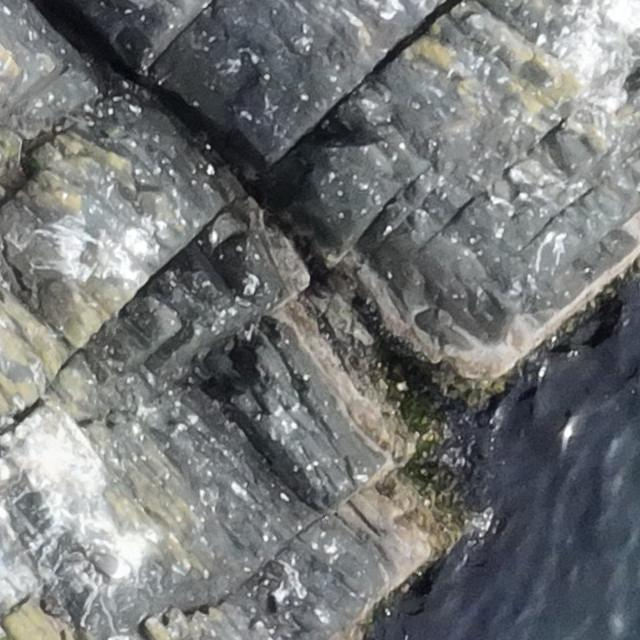umineko: (90, 551, 128, 577)
